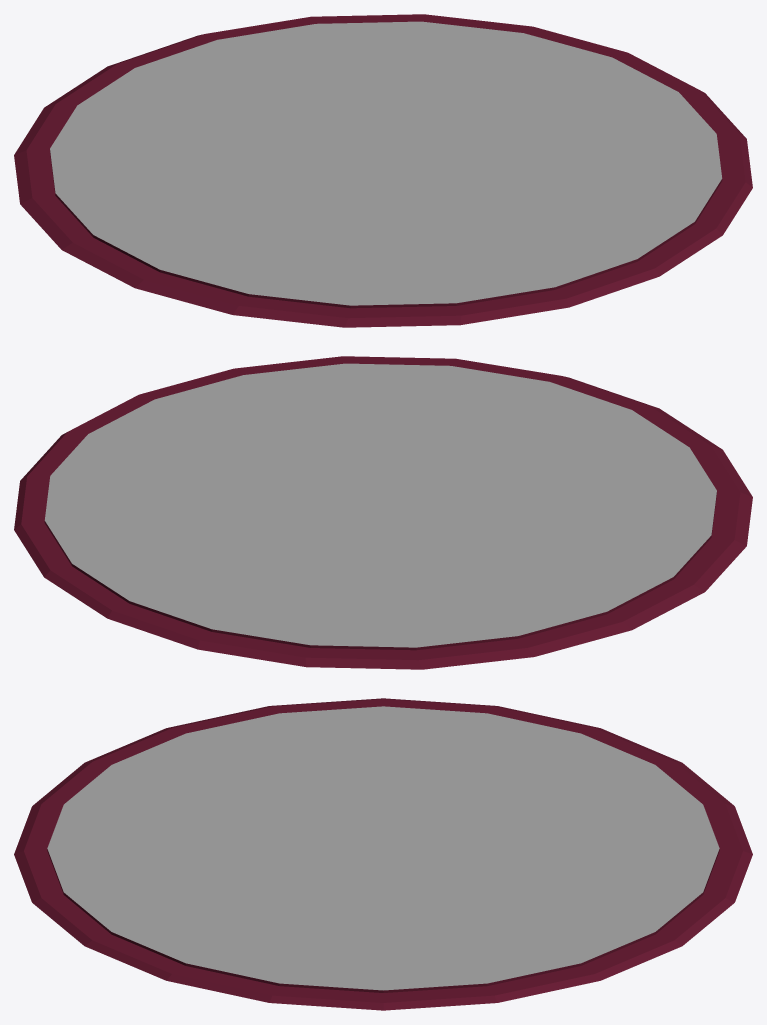
The model's file is Plataforma.fbx.
3 renders of one model, top to bottom at view 1: azimuth 30°, elevation 25°; view 2: azimuth 150°, elevation 25°; view 3: azimuth 270°, elevation 25°, orthographic.
Parts seen in each view (by area): view 1: Plataforma; view 2: Plataforma; view 3: Plataforma.
Part boxes in pixels (x1,y1,x2,y2): Plataforma: (14,14,752,327); Plataforma: (14,356,752,669); Plataforma: (14,698,752,1010).
Size of the model in its own units: 230 by 2.51 by 230.
